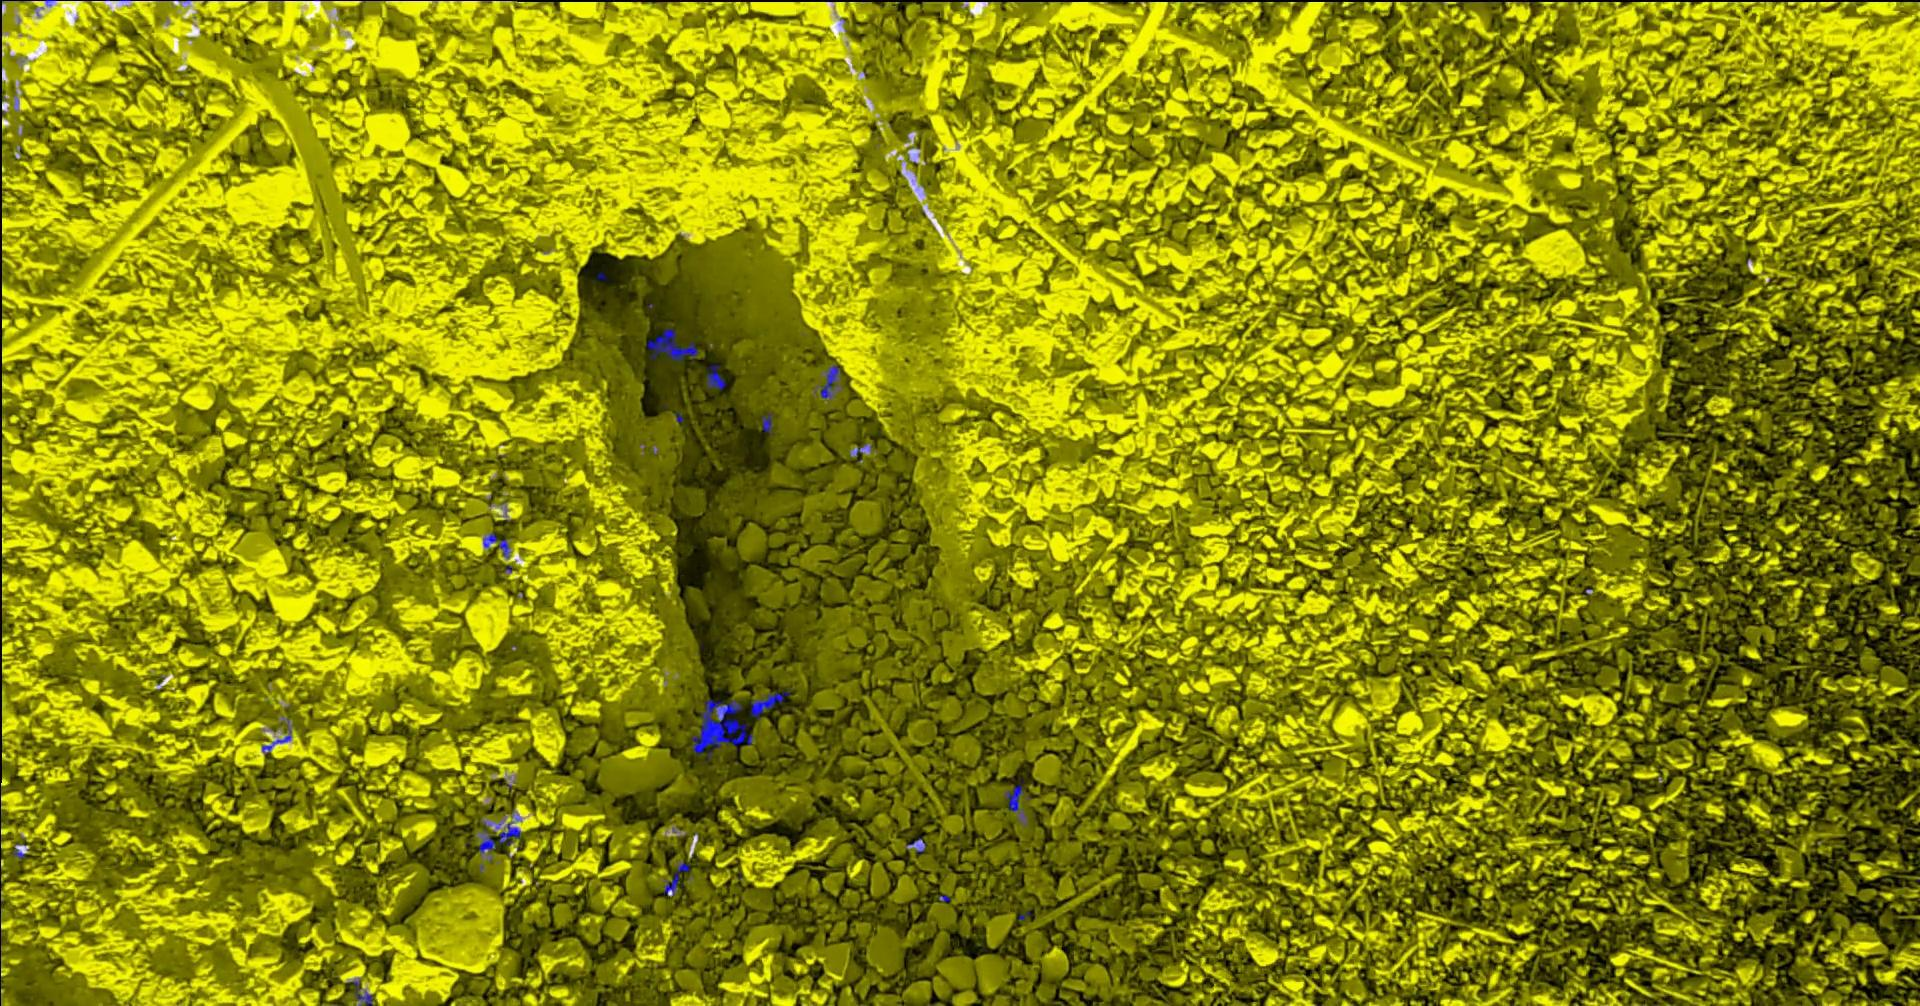ant: (646, 328, 697, 359), (477, 821, 521, 854), (749, 690, 789, 719), (1004, 779, 1029, 826), (811, 365, 842, 399), (262, 718, 291, 752), (663, 860, 690, 895), (483, 532, 510, 558), (347, 979, 373, 1005), (706, 363, 725, 389), (759, 412, 772, 434)
